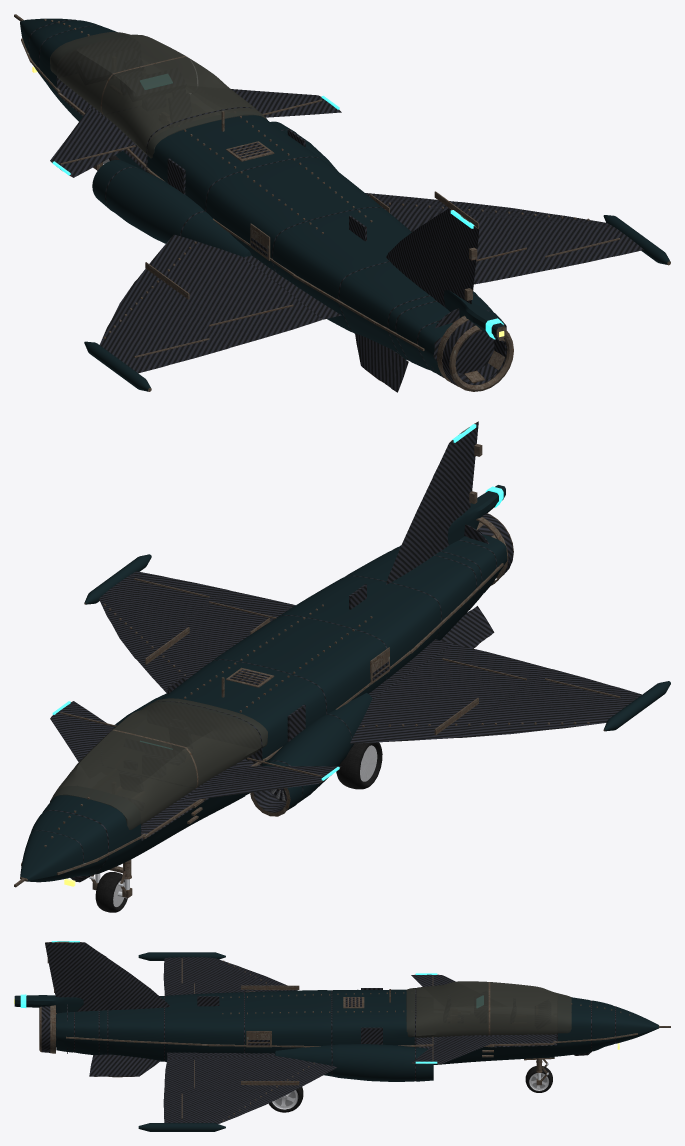
Rendered from basement_v3.glb.
3 renders of one model, top to bottom at view 1: azimuth 30°, elevation 25°; view 2: azimuth 150°, elevation 25°; view 3: azimuth 270°, elevation 25°, orthographic. The views are drawn at different scales.
Parts seen in each view (by area): view 1: basement_core, basement_wing_l, basement_wing_r, basement_canard_l, basement_canard_r; view 2: basement_core, basement_wing_l, basement_wing_r, basement_canard_l, basement_gear_down, basement_canard_r; view 3: basement_core, basement_wing_r, basement_wing_l, basement_canard_r, basement_gear_down, basement_canard_l.
Part boxes in pixels (x1,y1,x2,y2): basement_core: (14,14,513,392); basement_wing_l: (84,234,322,391); basement_wing_r: (365,191,670,284); basement_canard_l: (50,108,135,177); basement_canard_r: (231,89,341,117); basement_core: (14,421,513,887); basement_wing_l: (350,644,670,743); basement_wing_r: (84,554,295,692); basement_canard_l: (182,757,341,801); basement_gear_down: (89,742,382,912); basement_canard_r: (50,701,116,761); basement_core: (14,941,670,1081); basement_wing_r: (138,1056,337,1131); basement_wing_l: (138,952,299,995); basement_canard_r: (411,1035,507,1063); basement_gear_down: (268,1057,554,1112); basement_canard_l: (411,973,455,986).
Bounding box in the file's own units: 5.68 × 2.28 × 9.03.
15 materials, 8 textured.
